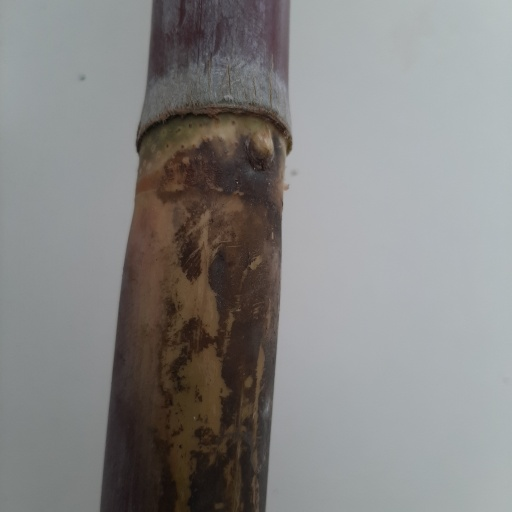Bud: (246, 121, 276, 170)
